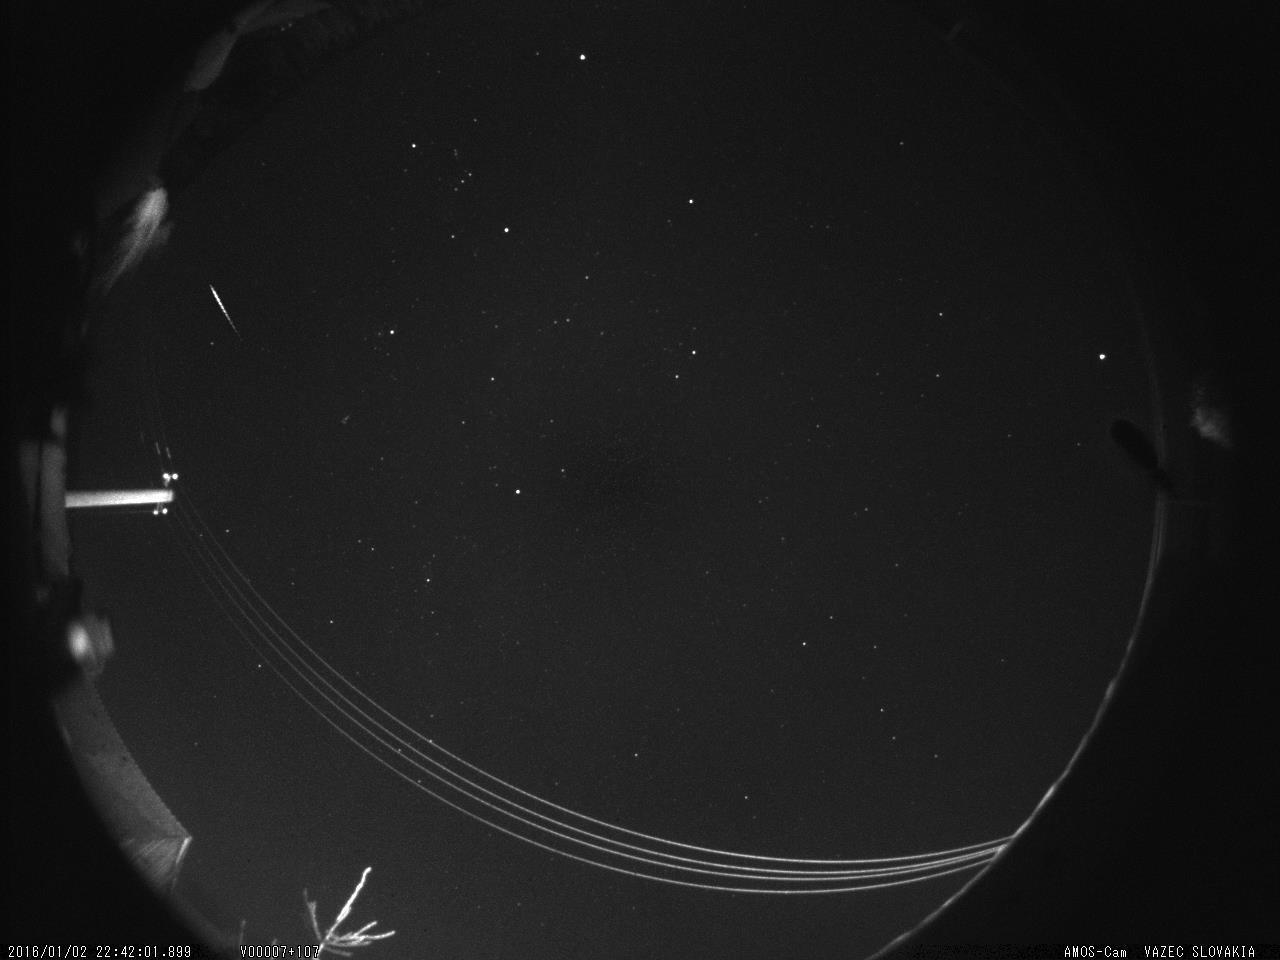Meteor: (208, 280, 240, 335)
